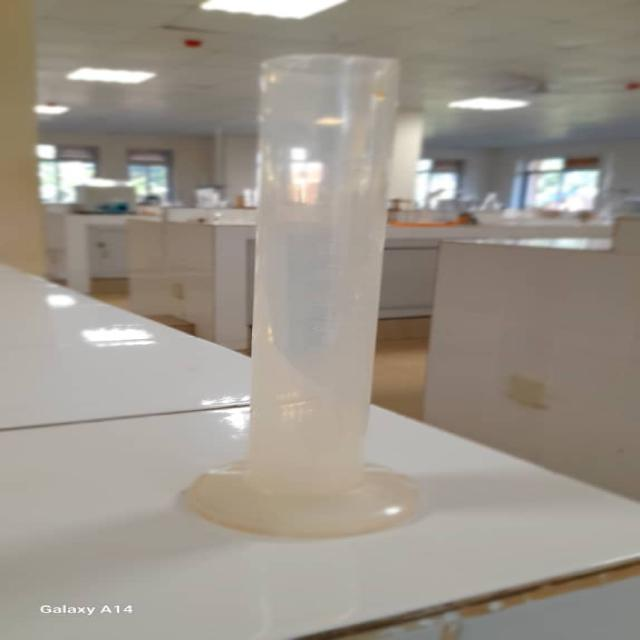Measuring Cylinder: (203, 54, 402, 531)
